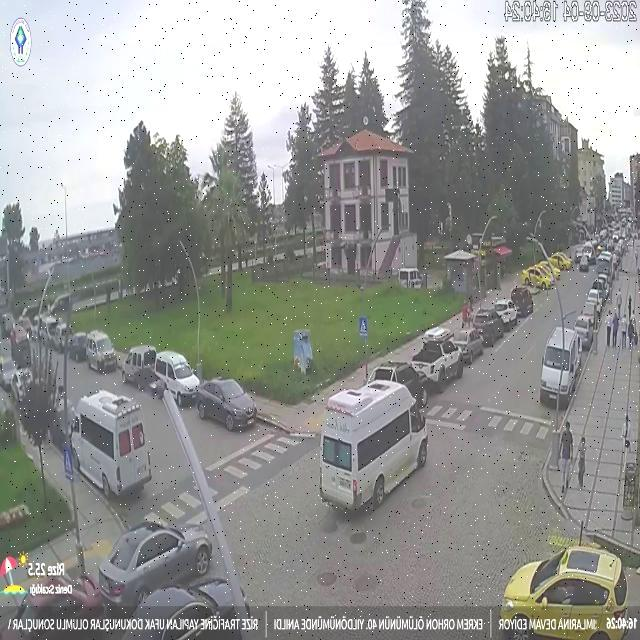Car: (499, 545, 631, 640), (95, 521, 213, 607), (126, 579, 246, 639), (18, 573, 105, 638), (367, 358, 431, 411), (197, 378, 259, 430), (410, 336, 463, 392), (153, 350, 200, 405), (122, 344, 158, 386), (469, 306, 505, 345), (450, 328, 485, 362), (521, 263, 557, 289), (10, 366, 34, 402), (573, 315, 596, 349), (493, 298, 519, 328), (589, 276, 609, 306), (584, 288, 603, 316), (548, 253, 573, 272)
Truck: (315, 381, 429, 518), (67, 388, 154, 494), (539, 325, 585, 406), (85, 330, 118, 372), (510, 285, 534, 318), (397, 268, 424, 290)
